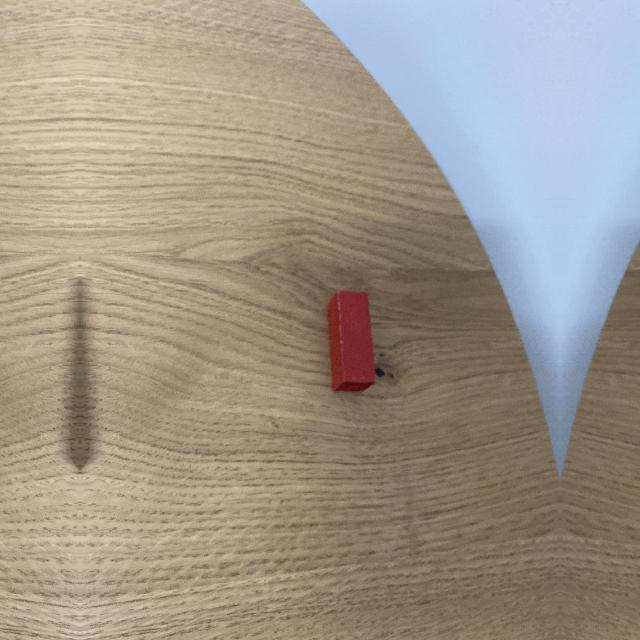red block: (326, 291, 377, 393)
